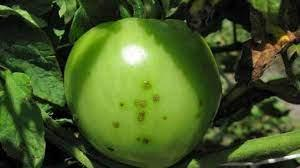tomato bacterial spot: (64, 18, 225, 168)
